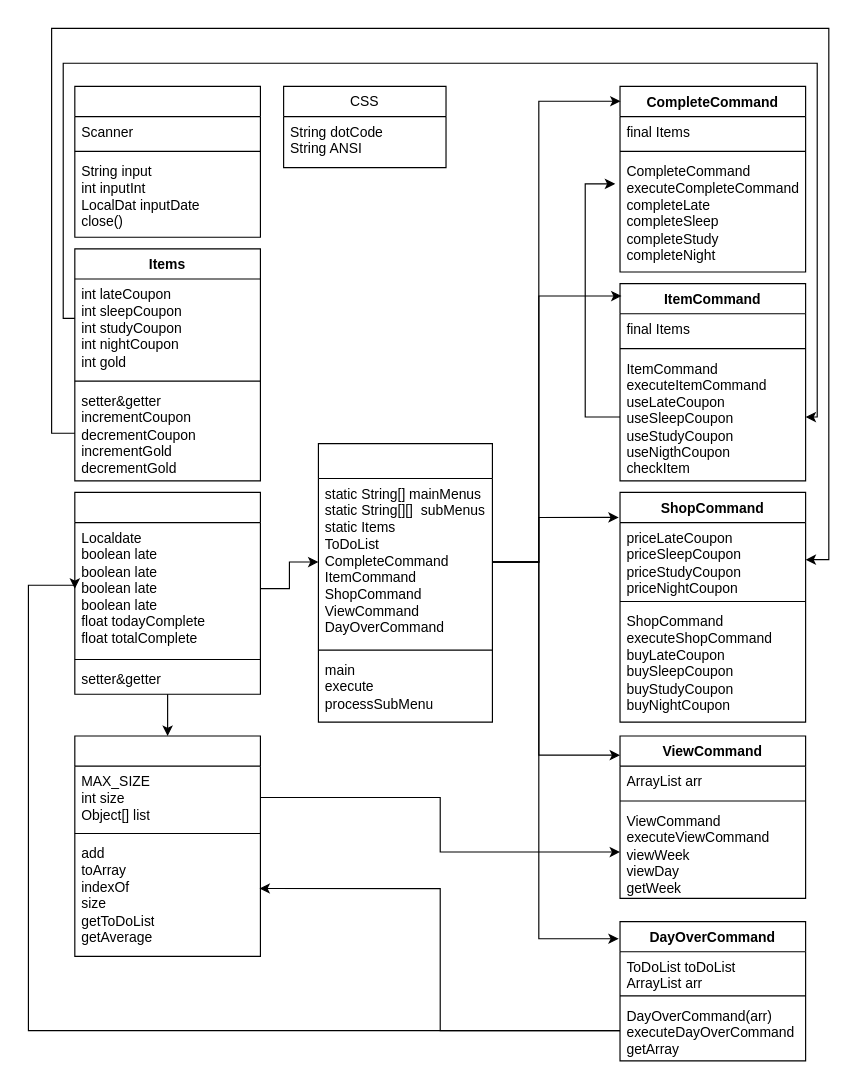
This 858x1085 diagram has some shape labels left out. Each missing label, with the box of its shape:
App: (317, 443, 492, 722)
ArrayList: (74, 735, 260, 956)
Prompt: (74, 85, 260, 237)
TodoList: (74, 491, 260, 694)
